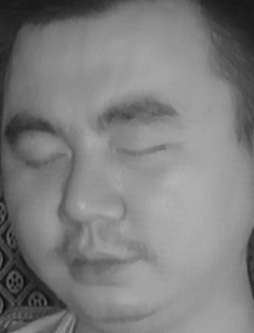blink: (14, 138, 68, 177), (115, 131, 170, 169)
mouth: (55, 238, 137, 296)
